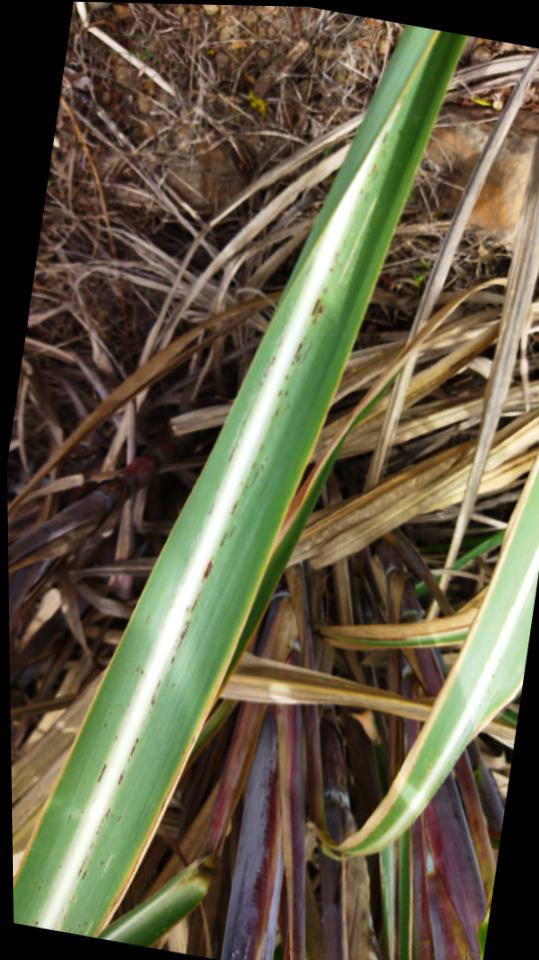Rust: (73, 805, 123, 884), (358, 127, 388, 204), (241, 446, 267, 496), (259, 336, 283, 386), (168, 620, 191, 665), (329, 237, 348, 273), (290, 335, 305, 366), (310, 298, 325, 326), (94, 762, 108, 787), (149, 679, 161, 707), (188, 590, 201, 614), (271, 403, 289, 420), (127, 736, 138, 763), (202, 557, 213, 580), (115, 767, 125, 788), (225, 444, 235, 463), (207, 500, 215, 517), (219, 533, 226, 548), (31, 917, 40, 928), (230, 501, 236, 517), (228, 526, 235, 539), (277, 388, 282, 399), (283, 390, 288, 398), (322, 287, 327, 295), (284, 375, 288, 381)
